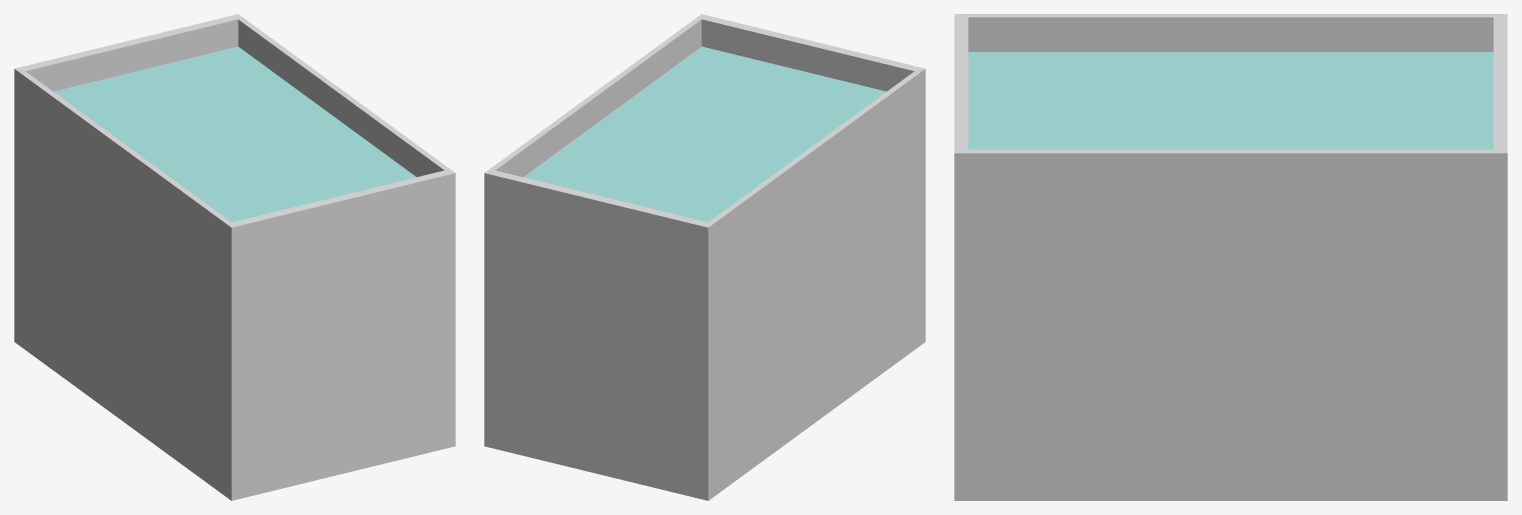
Rendered from TANK.fbx.
The picture shows the model from 3 angles, left to right: view 1: azimuth 30°, elevation 25°; view 2: azimuth 150°, elevation 25°; view 3: azimuth 270°, elevation 25°; orthographic projection. The views are drawn at different scales.
Visible parts, largest first — view 1: Cube; view 2: Cube; view 3: Cube.
Part boxes in pixels (x1,y1,x2,y2): Cube: (14,14,455,500); Cube: (484,14,925,500); Cube: (954,14,1507,500).
Bounding box in the file's own units: 94.5 × 110 × 159.
